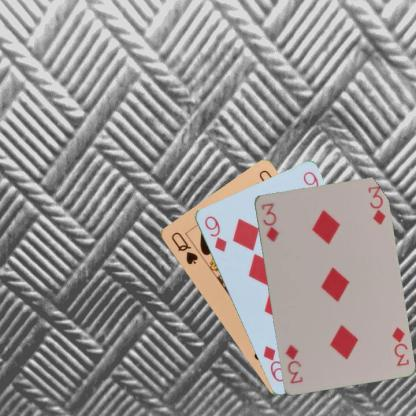3d: (388, 324, 410, 368), (259, 200, 280, 243)
9d: (202, 212, 228, 253)
Qs: (168, 229, 199, 266)
